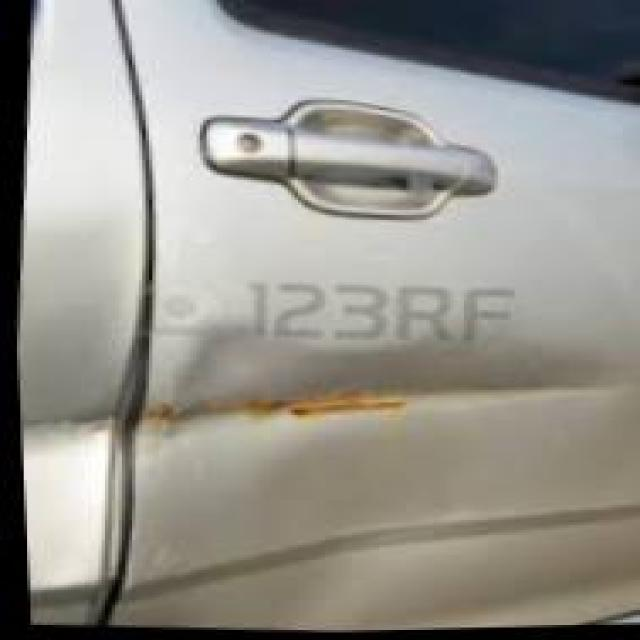Door: (7, 188, 579, 639)
